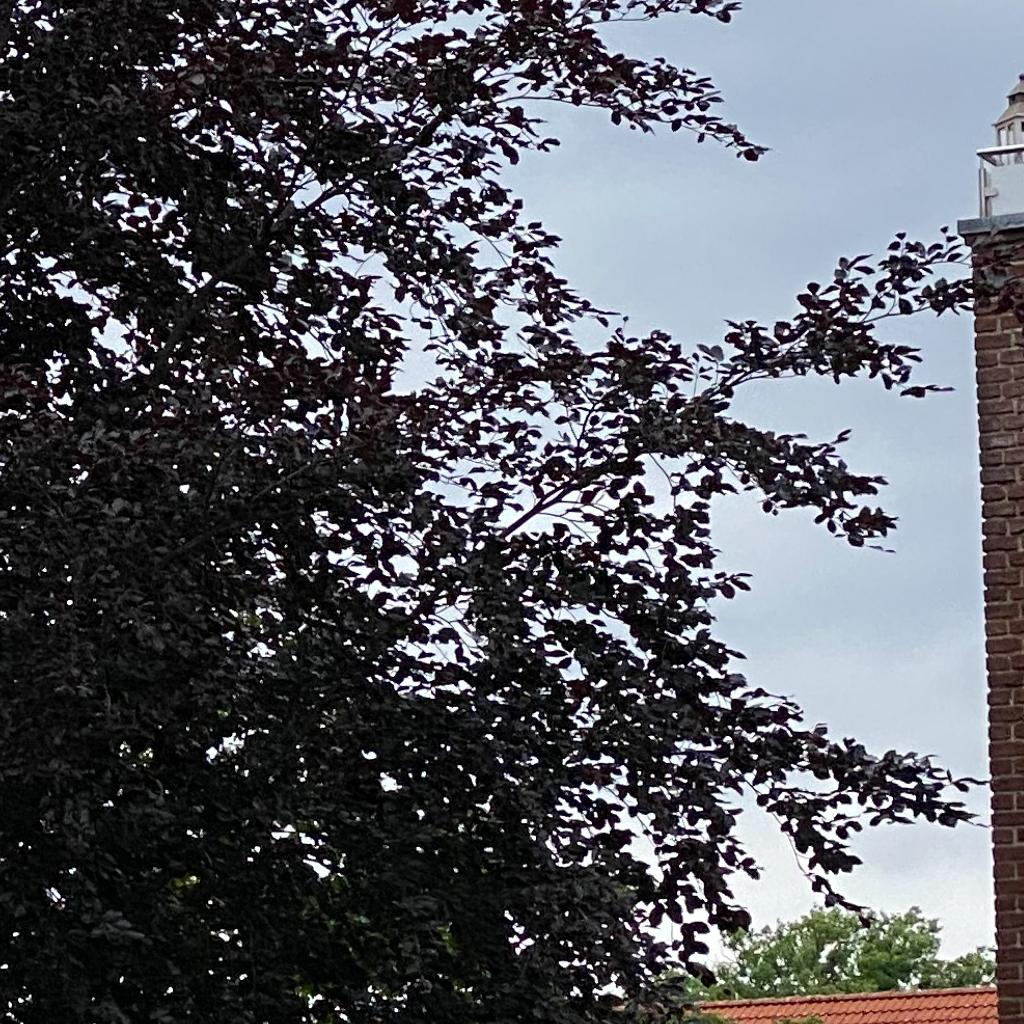tree: (1, 1, 1023, 1023), (649, 903, 993, 1002)
